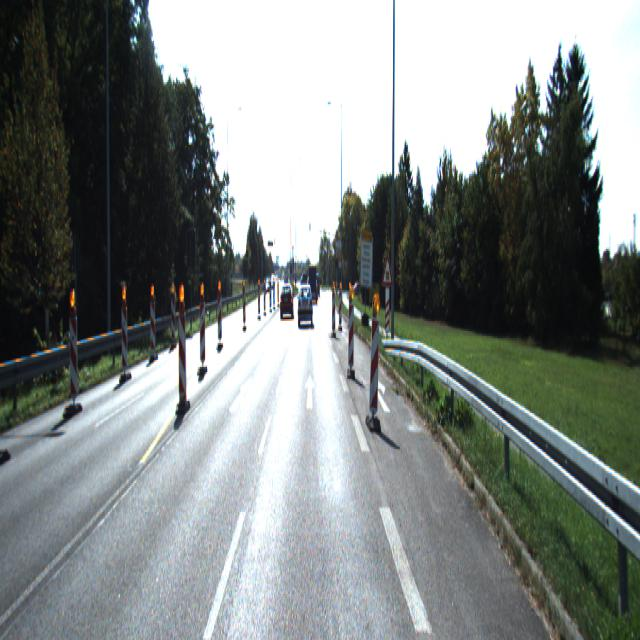Car: (298, 287, 312, 327), (280, 285, 294, 321), (308, 267, 317, 306)
